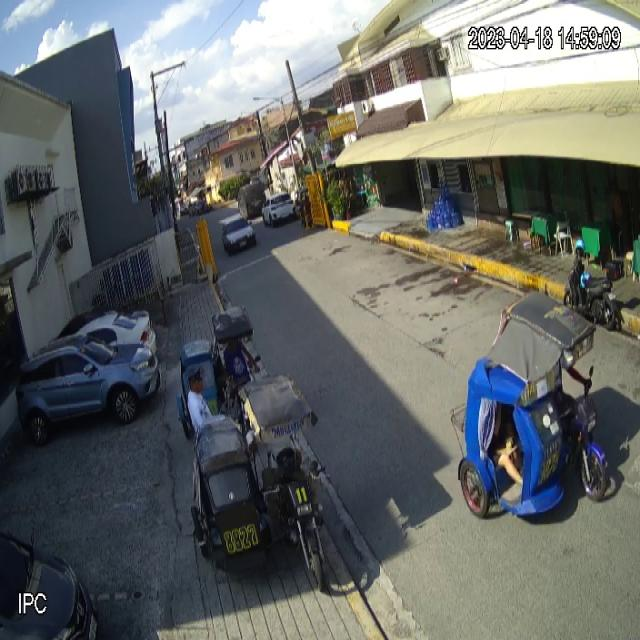Car: (14, 330, 165, 450)
Motorcycle: (564, 248, 626, 333)
Tricycle: (451, 290, 612, 521), (190, 372, 330, 592), (176, 302, 260, 440)
